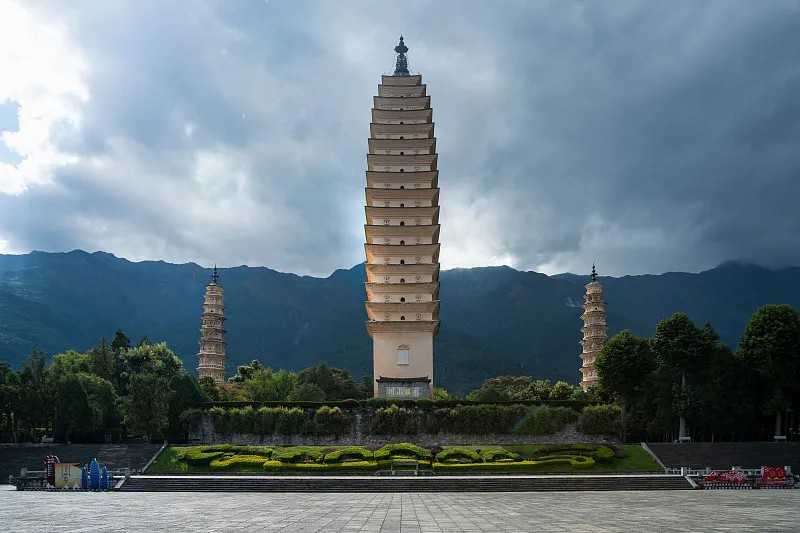ThreePagoda: (363, 34, 440, 400)
